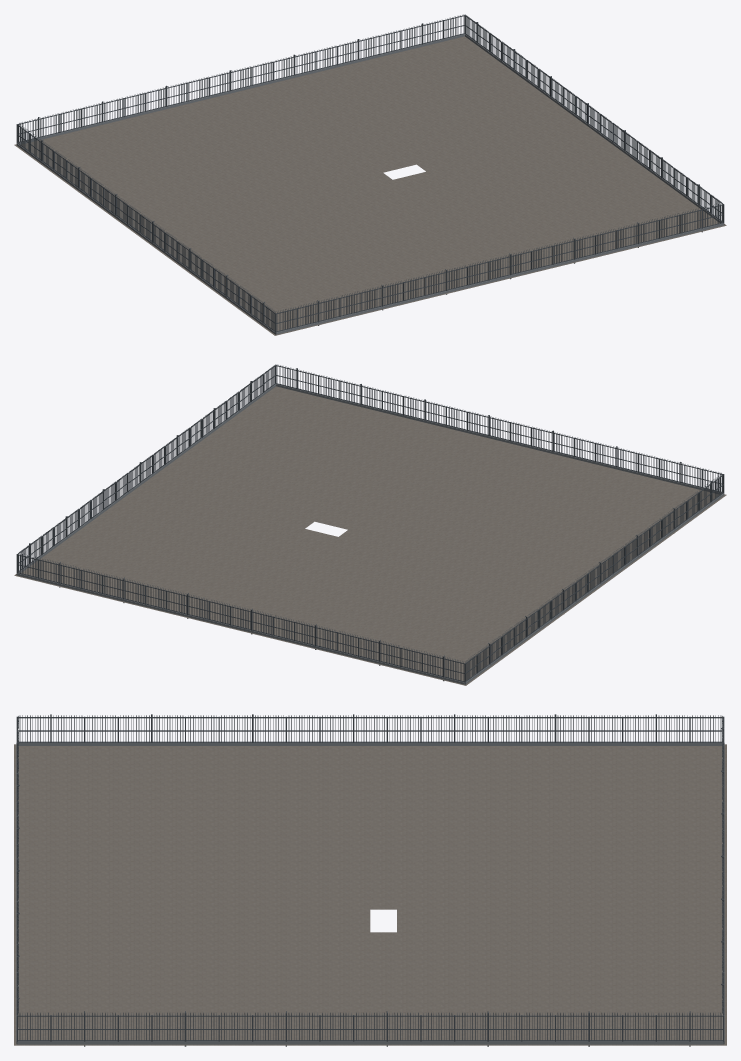
Rendered from carnival.glb.
The picture shows the model from 3 angles, top to bottom: view 1: azimuth 30°, elevation 25°; view 2: azimuth 150°, elevation 25°; view 3: azimuth 270°, elevation 25°; orthographic projection. The views are drawn at different scales.
Parts seen in each view (by area): view 1: Utility paving, Angled security tip, Continuous concrete footing; view 2: Utility paving, Angled security tip, Continuous concrete footing; view 3: Utility paving, Angled security tip, Continuous concrete footing.
Part boxes in pixels (x1,y1,x2,y2): Utility paving: (14,36,726,335); Angled security tip: (16,14,724,334); Continuous concrete footing: (16,34,723,334); Utility paving: (14,386,726,685); Angled security tip: (16,364,724,684); Continuous concrete footing: (17,384,724,684); Utility paving: (14,744,726,1045); Angled security tip: (16,714,724,1046); Continuous concrete footing: (16,742,724,1044).
Bounding box in the file's own units: 162 × 8.58 × 162.
Materials: 3 (1 with a texture image).
